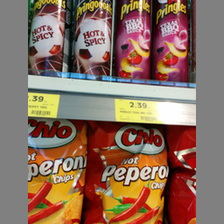chips: (87, 120, 168, 224), (28, 119, 86, 224), (72, 1, 114, 80), (30, 1, 73, 78), (152, 1, 191, 82), (116, 1, 153, 81)
